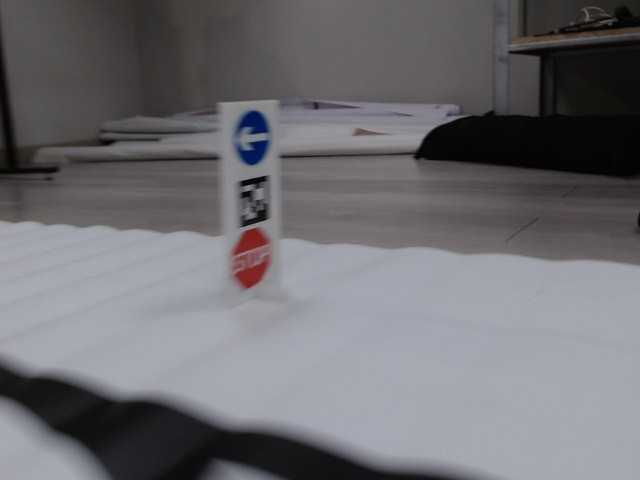Stop: (232, 227, 273, 290)
